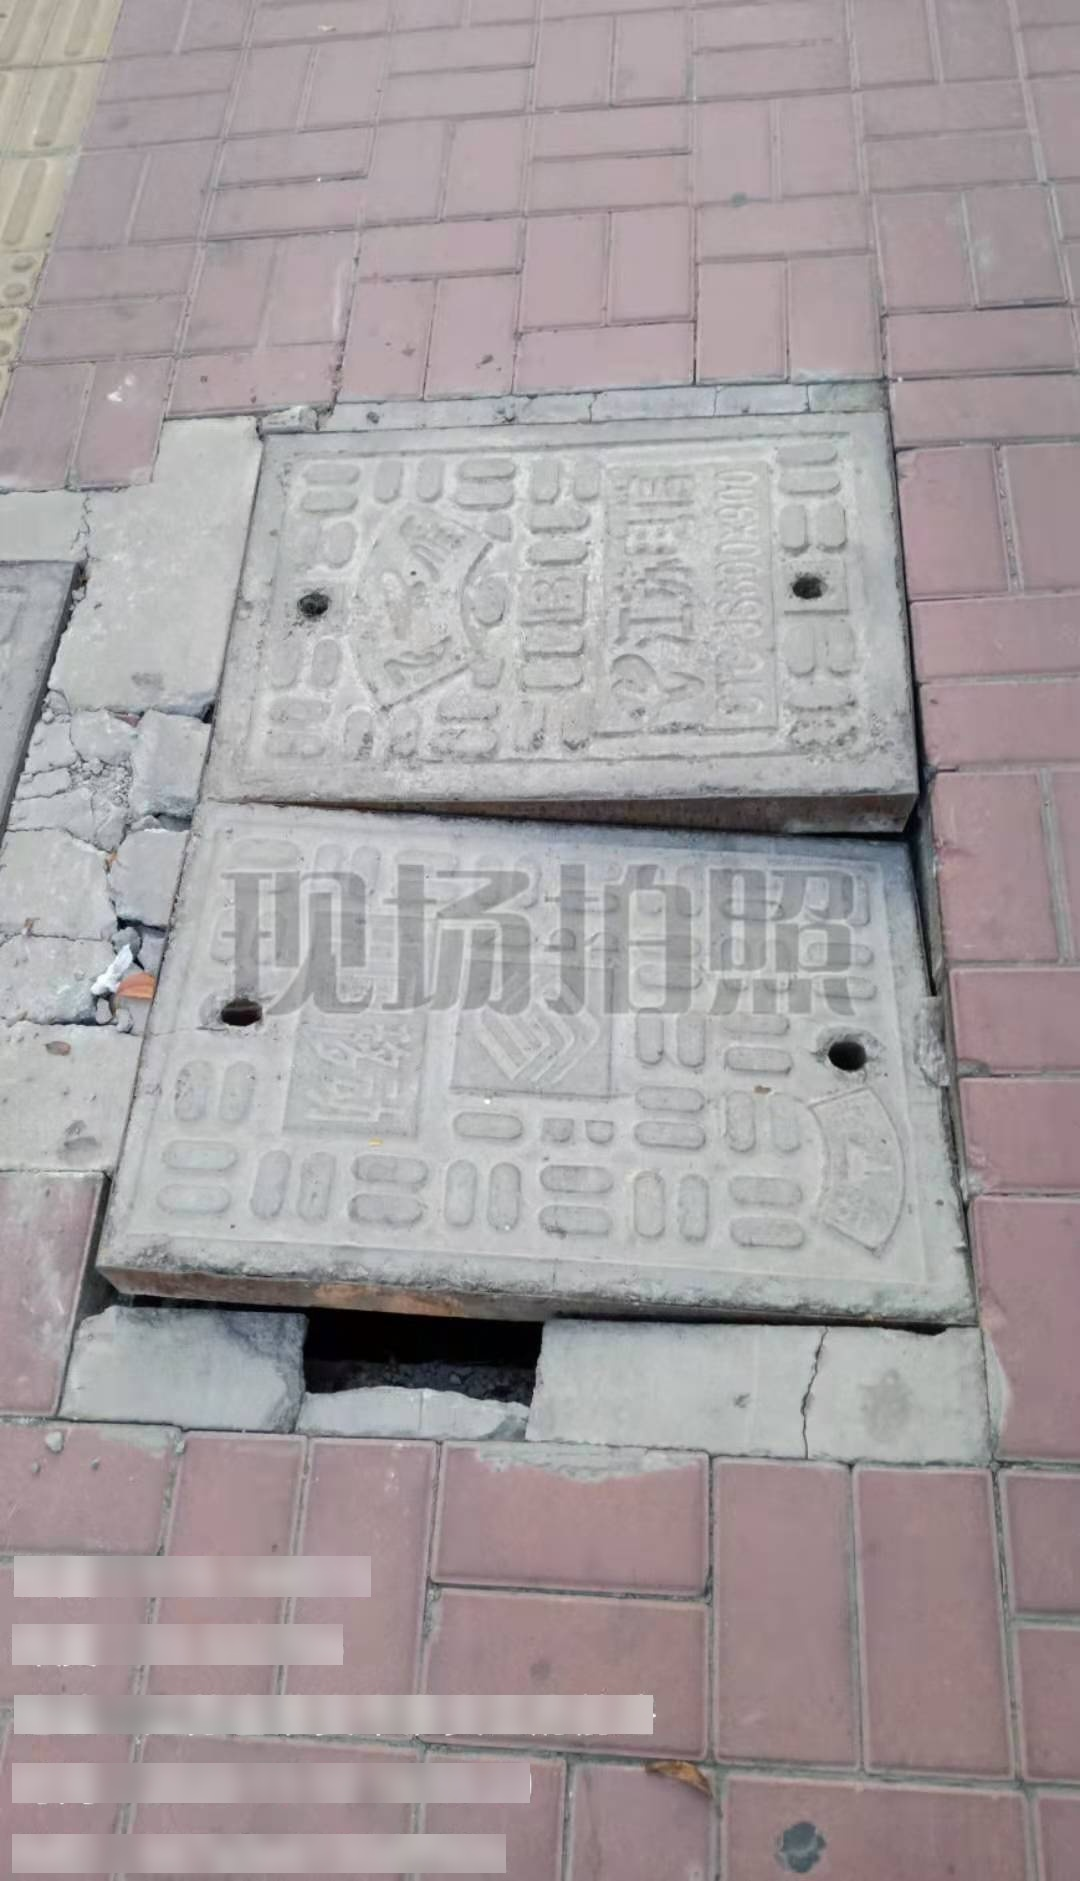uncovered: (75, 380, 983, 1386)
